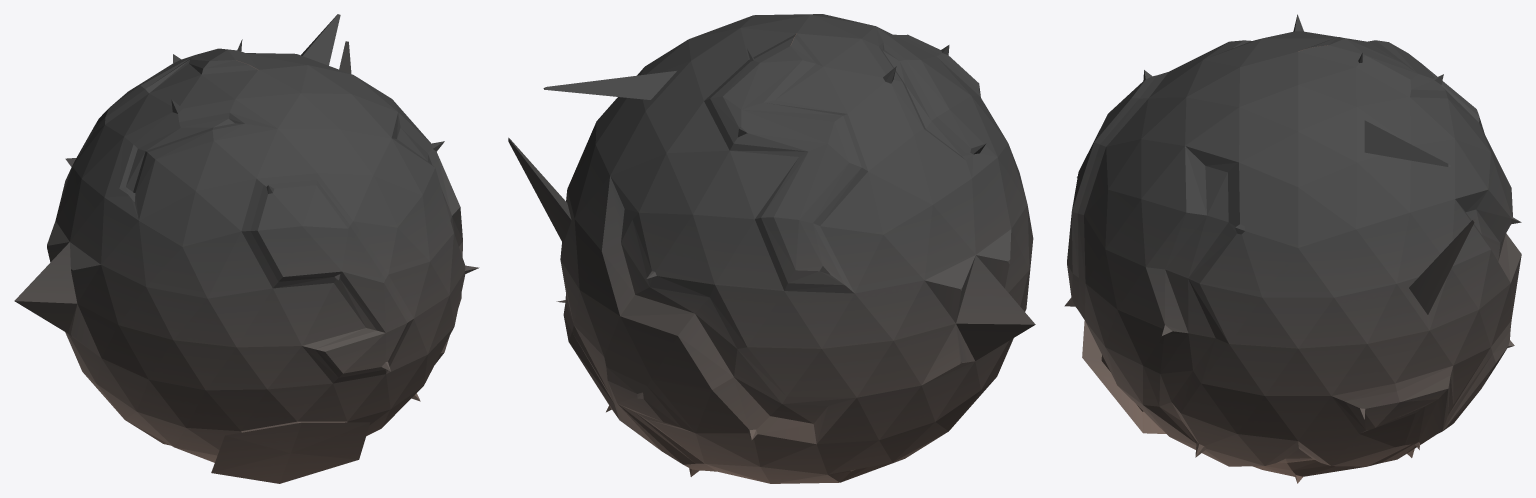
The model's file is Metalic_planet_stage2.FBX.
3 renders of one model, left to right at view 1: azimuth 30°, elevation 25°; view 2: azimuth 150°, elevation 25°; view 3: azimuth 270°, elevation 25°, orthographic. The views are drawn at different scales.
Parts seen in each view (by area): view 1: Metalic_Stage_2; view 2: Metalic_Stage_2; view 3: Metalic_Stage_2.
Part boxes in pixels (left/top/right/bottom): Metalic_Stage_2: left=14, top=14, right=479, bottom=483; Metalic_Stage_2: left=508, top=14, right=1035, bottom=483; Metalic_Stage_2: left=1064, top=14, right=1521, bottom=483.
Bounding box in the file's own units: 90.18 × 82.2 × 81.91.
Materials: 1 (1 with a texture image).
